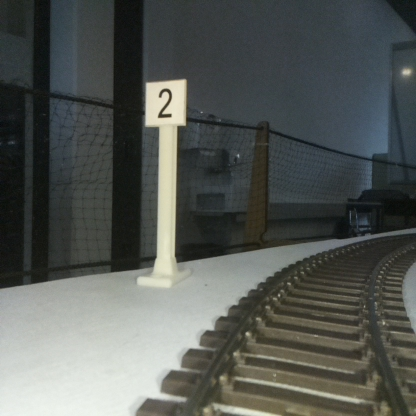white-info-2: (146, 81, 185, 285)
